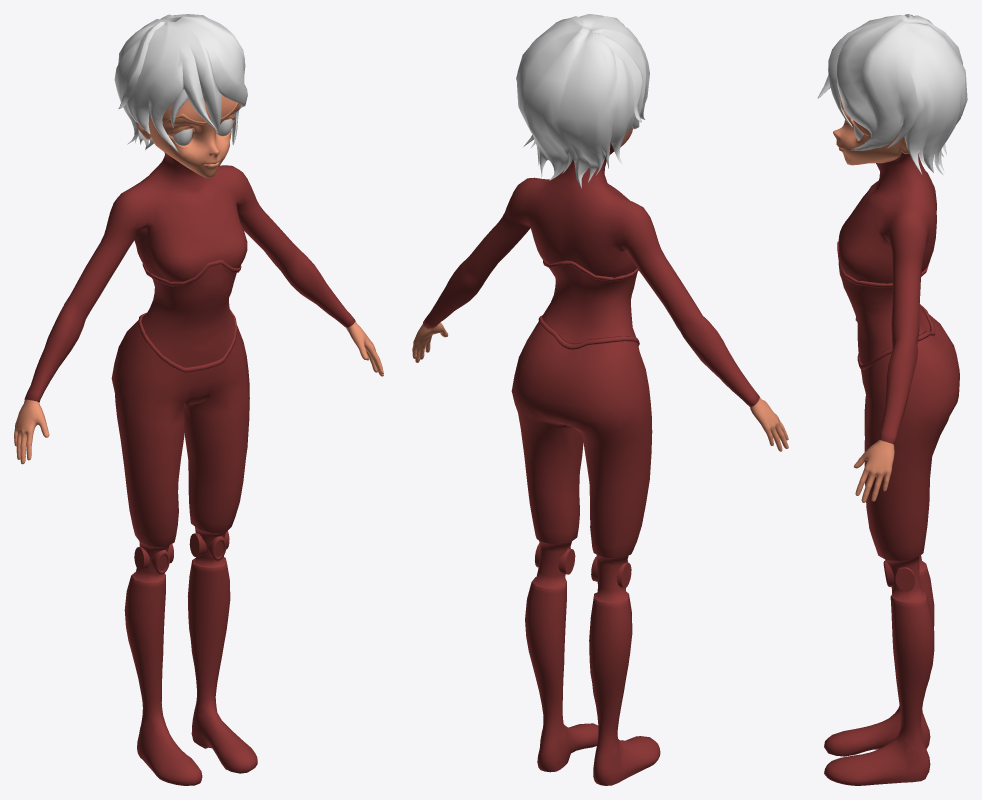
Rendered from Zee.fbx.
The picture shows the model from 3 angles, left to right: view 1: azimuth 30°, elevation 25°; view 2: azimuth 150°, elevation 25°; view 3: azimuth 270°, elevation 25°; orthographic projection.
Visible parts, largest first — view 1: Suit, Hair, Head, Hands; view 2: Suit, Hair, Hands; view 3: Suit, Hair, Head, Hands.
Boxes of the visible parts, left/top/right/bottom form: Suit: left=24, top=152, right=355, bottom=785; Hair: left=114, top=14, right=247, bottom=152; Head: left=136, top=94, right=240, bottom=178; Hands: left=14, top=321, right=383, bottom=464; Suit: left=423, top=142, right=759, bottom=785; Hair: left=516, top=14, right=649, bottom=188; Hands: left=412, top=322, right=788, bottom=451; Suit: left=824, top=152, right=959, bottom=785; Hair: left=817, top=14, right=967, bottom=174; Head: left=833, top=96, right=909, bottom=165; Hands: left=853, top=318, right=894, bottom=502.
Bounding box in the file's own units: 94.57 × 183 × 33.58.
